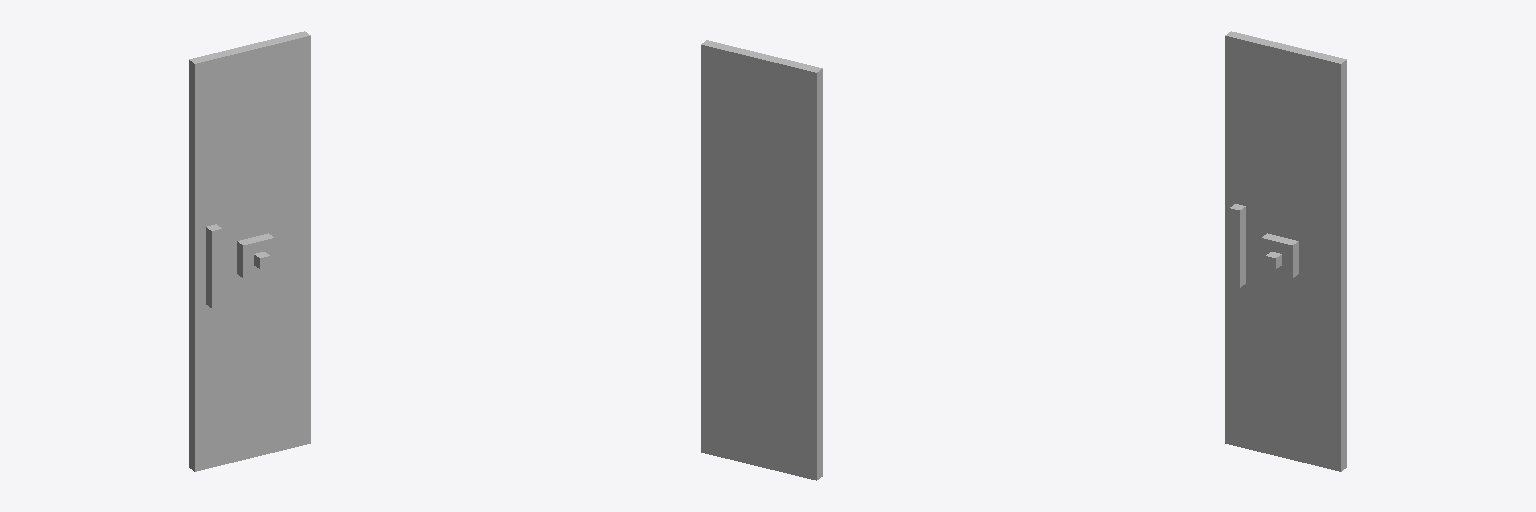
Rendered from puerta taquilla.obj.
3 renders of one model, left to right at view 1: azimuth 30°, elevation 25°; view 2: azimuth 150°, elevation 25°; view 3: azimuth 330°, elevation 25°, orthographic.
Visible parts, largest first — view 1: object 1; view 2: object 1; view 3: object 1.
Boxes of the visible parts, x1=… form: object 1: x1=189, y1=31, x2=310, y2=471; object 1: x1=701, y1=40, x2=822, y2=480; object 1: x1=1225, y1=31, x2=1346, y2=471.
Size of the model in its own units: 1.1 by 3.7 by 0.3.